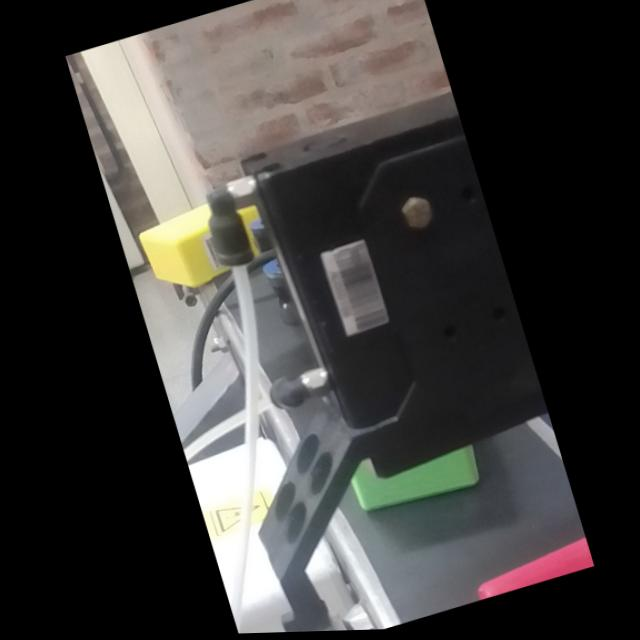redBox: (442, 516, 591, 608)
